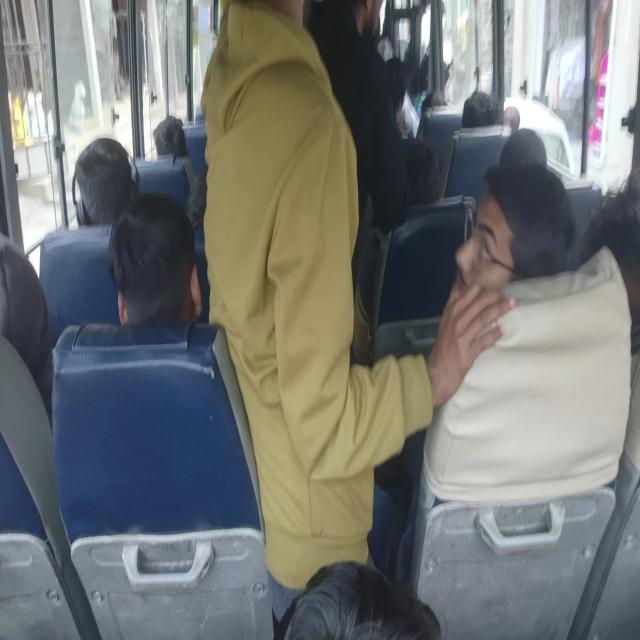person: (203, 0, 328, 208), (255, 563, 453, 640), (0, 230, 65, 410), (484, 185, 570, 321), (122, 201, 190, 351), (582, 182, 640, 311), (394, 142, 447, 219), (82, 138, 128, 226), (507, 115, 547, 196), (156, 101, 182, 181), (378, 74, 412, 124), (469, 81, 492, 140), (426, 44, 448, 101)
